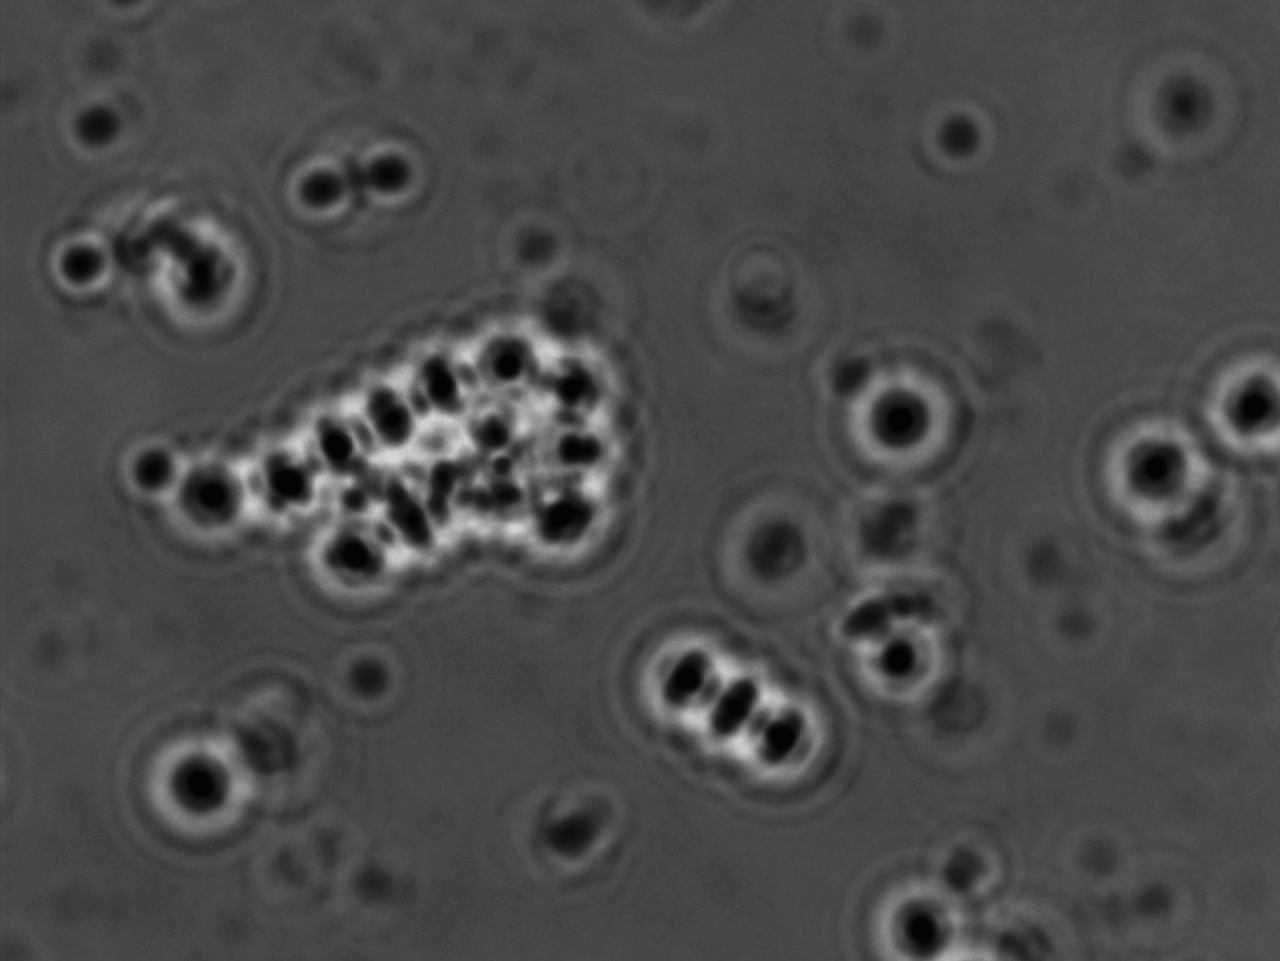depth:-24: (107, 697, 281, 862), (1082, 397, 1238, 566), (823, 353, 973, 499)
